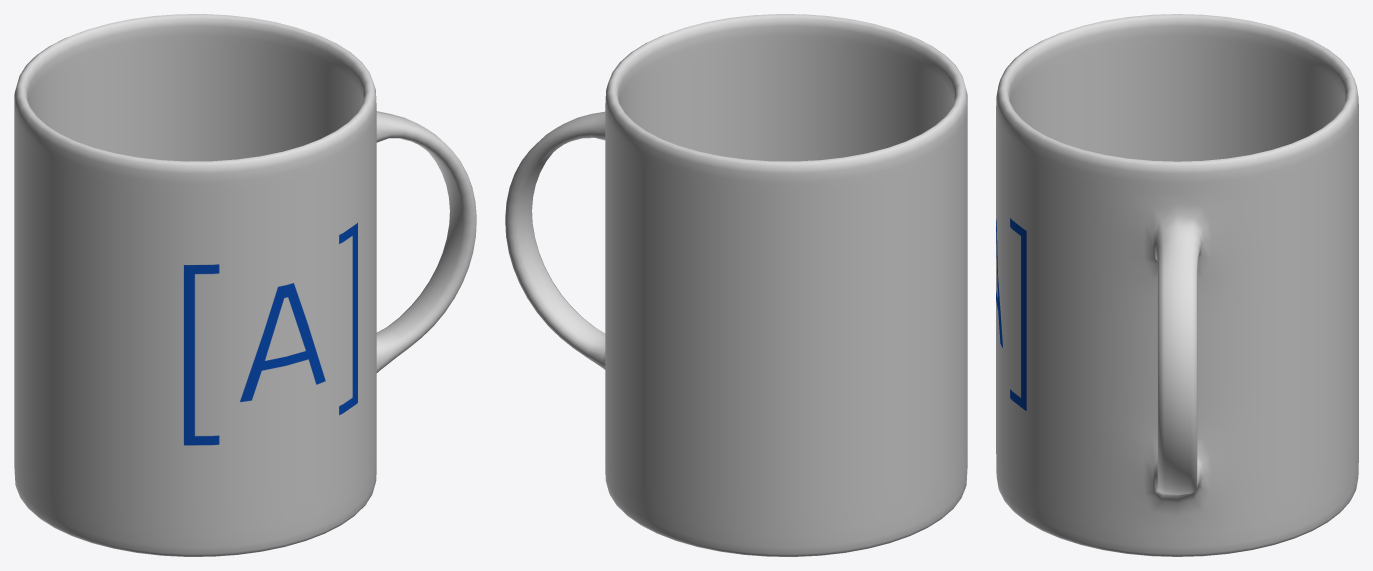
File: coffee-mug.gltf
The picture shows the model from 3 angles, left to right: view 1: azimuth 30°, elevation 25°; view 2: azimuth 150°, elevation 25°; view 3: azimuth 270°, elevation 25°; orthographic projection.
Parts seen in each view (by area): view 1: Cylinder; view 2: Cylinder; view 3: Cylinder.
Part boxes in pixels (x1,y1,x2,y2): Cylinder: (14, 14, 476, 556); Cylinder: (505, 14, 967, 556); Cylinder: (996, 14, 1358, 556).
Bounding box in the file's own units: 0.1099 × 0.0961 × 0.0798.
Materials: 2 (1 with a texture image).
